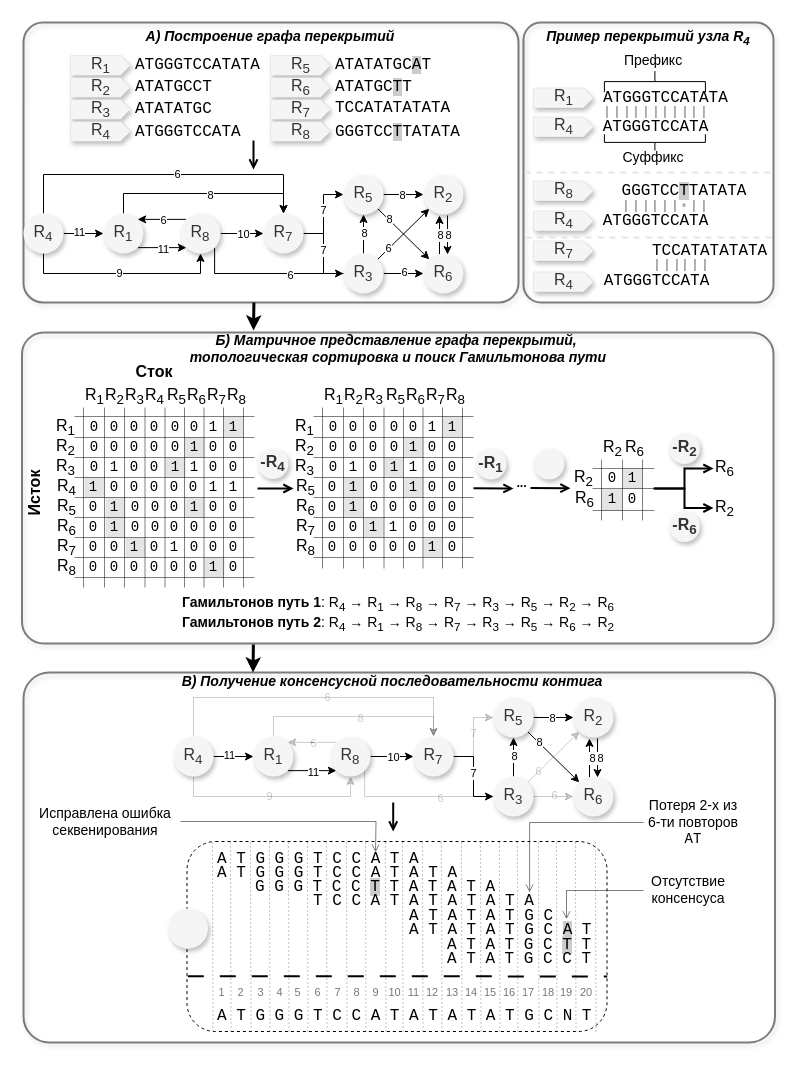
Image size: 799x1067. Some labels were removed from this diagram. The centre of each missing label's shape, as x and y in pixels:
-R 5: [549,465]
С 1: [189,929]
